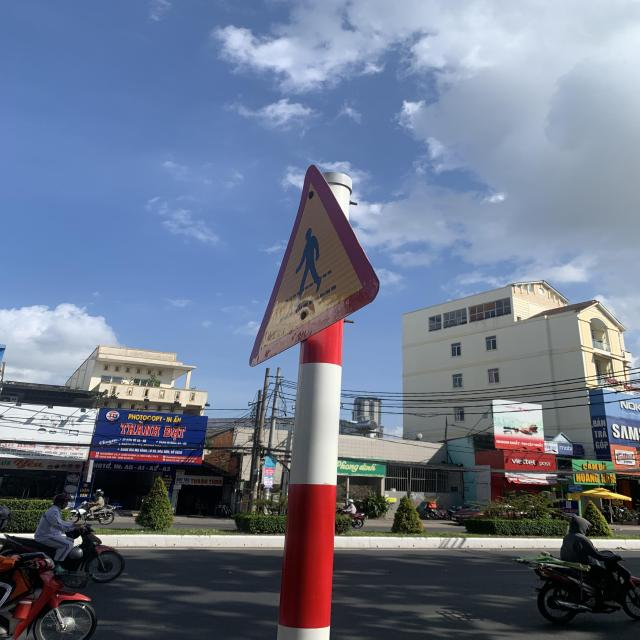Duong_Nguoi_Di_Bo_Sang_Ngang: (248, 163, 382, 365)
